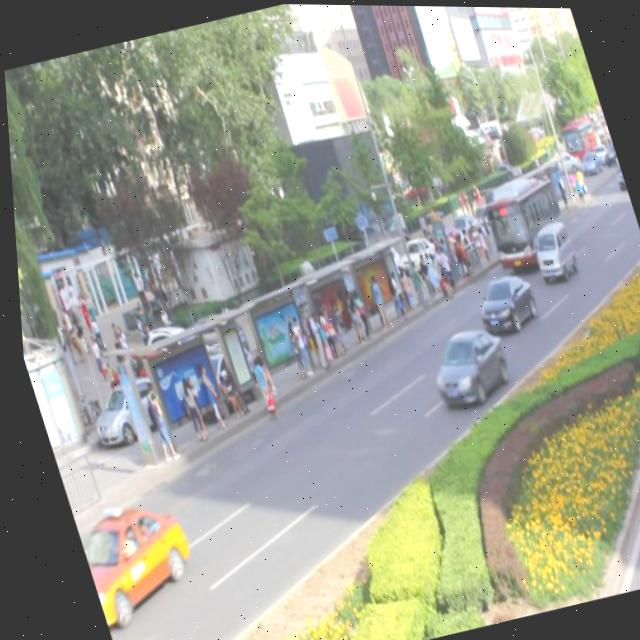car: (65, 489, 200, 626), (416, 319, 510, 407), (463, 266, 536, 336)
truck: (523, 217, 577, 281)
van: (470, 167, 570, 270)
